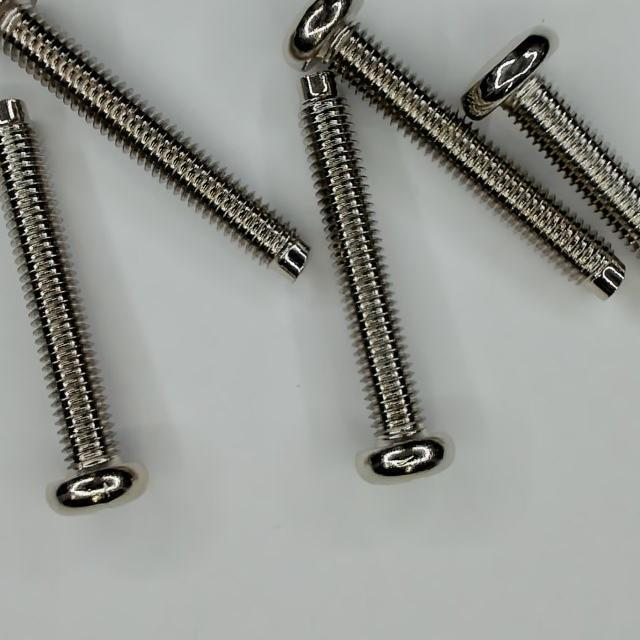Screw: (291, 0, 626, 296), (0, 0, 310, 278), (288, 0, 582, 260), (302, 71, 445, 476), (0, 99, 135, 508), (465, 34, 640, 252)
